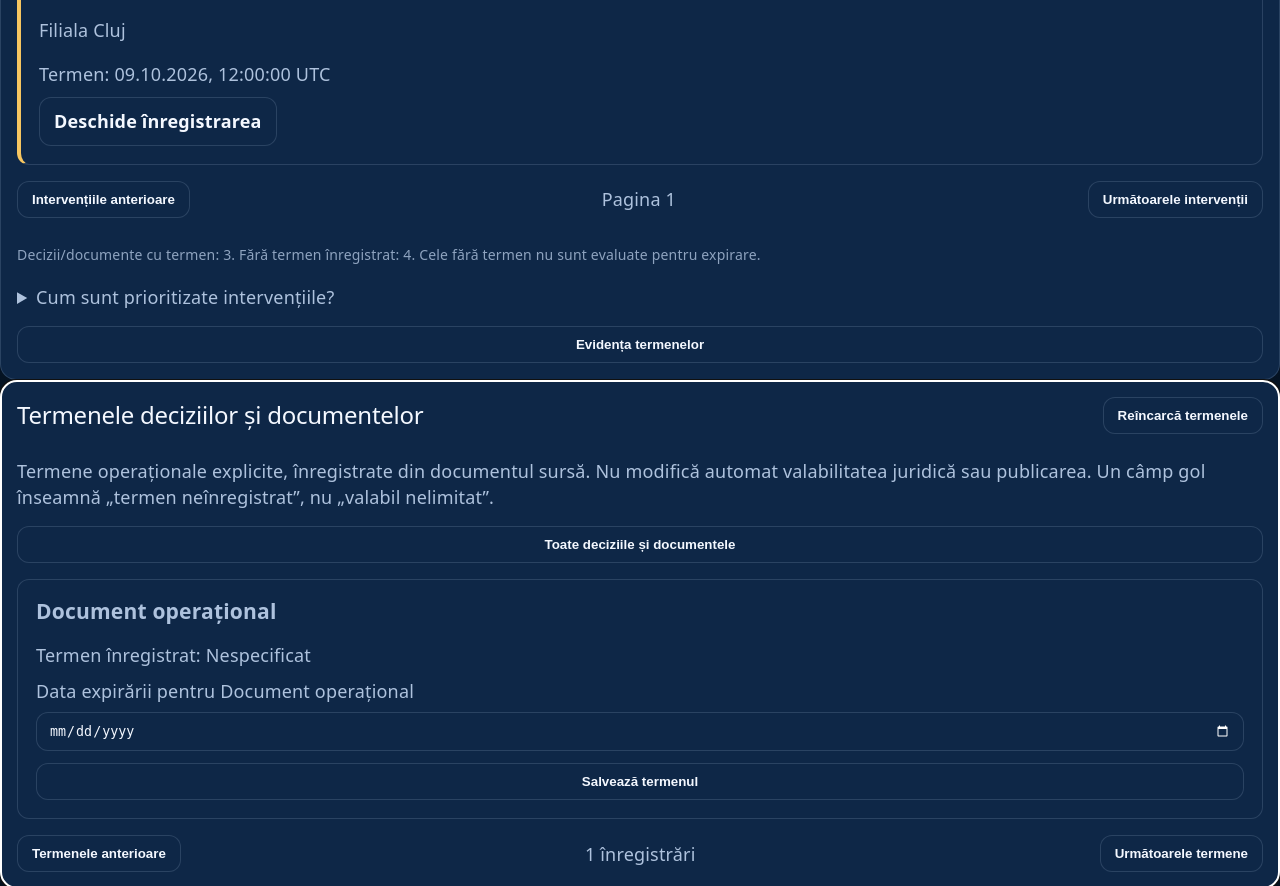
Test: presidential intervention list › keeps the date draft visible after a conflicting edit
(page scrolled)
Step 1. Type "2026-11-01" into the date field labelled "Data expirării pentru Document operațional" → x=640, y=732, box [36, 712, 1244, 752]
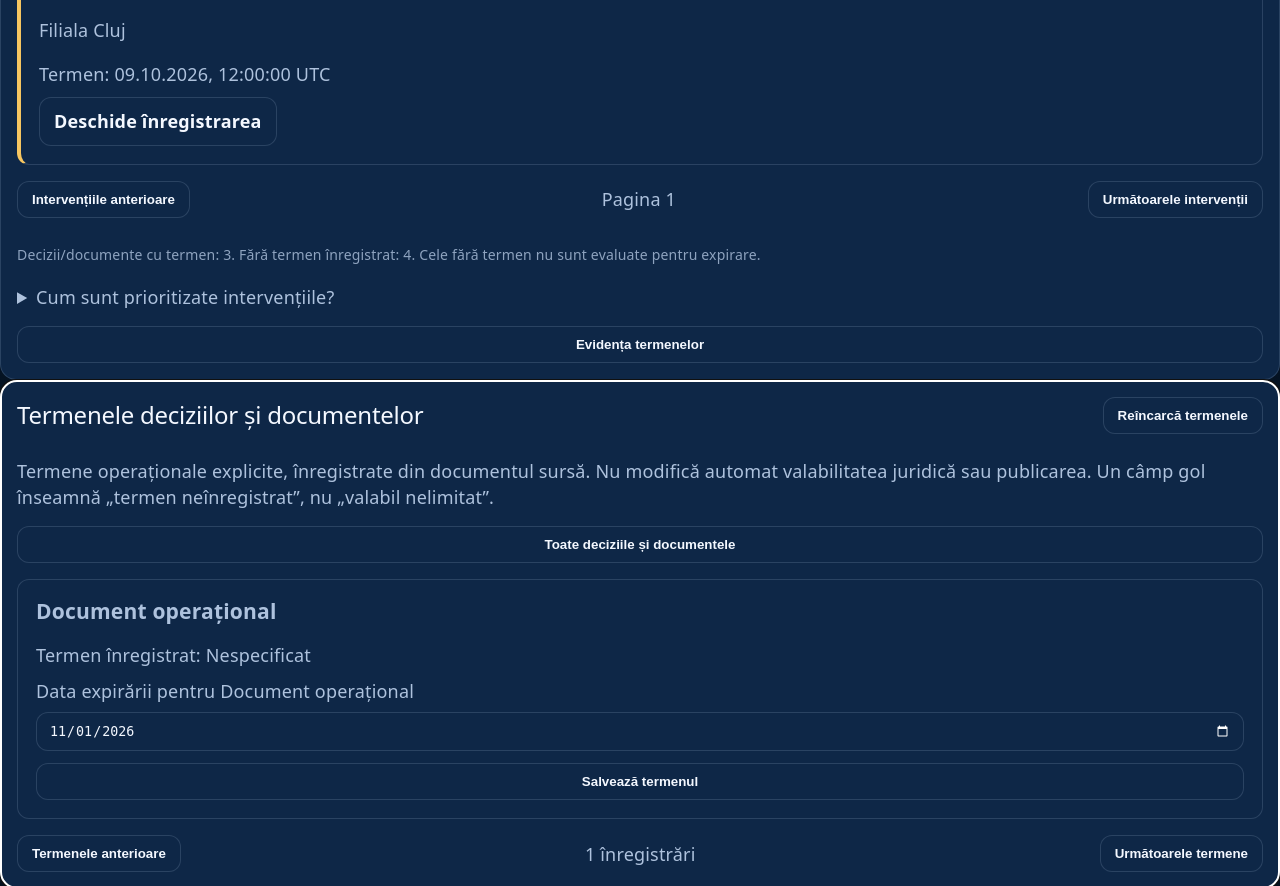
Step 2. Click the button "Salvează termenul" → x=640, y=782, box [36, 764, 1244, 800]
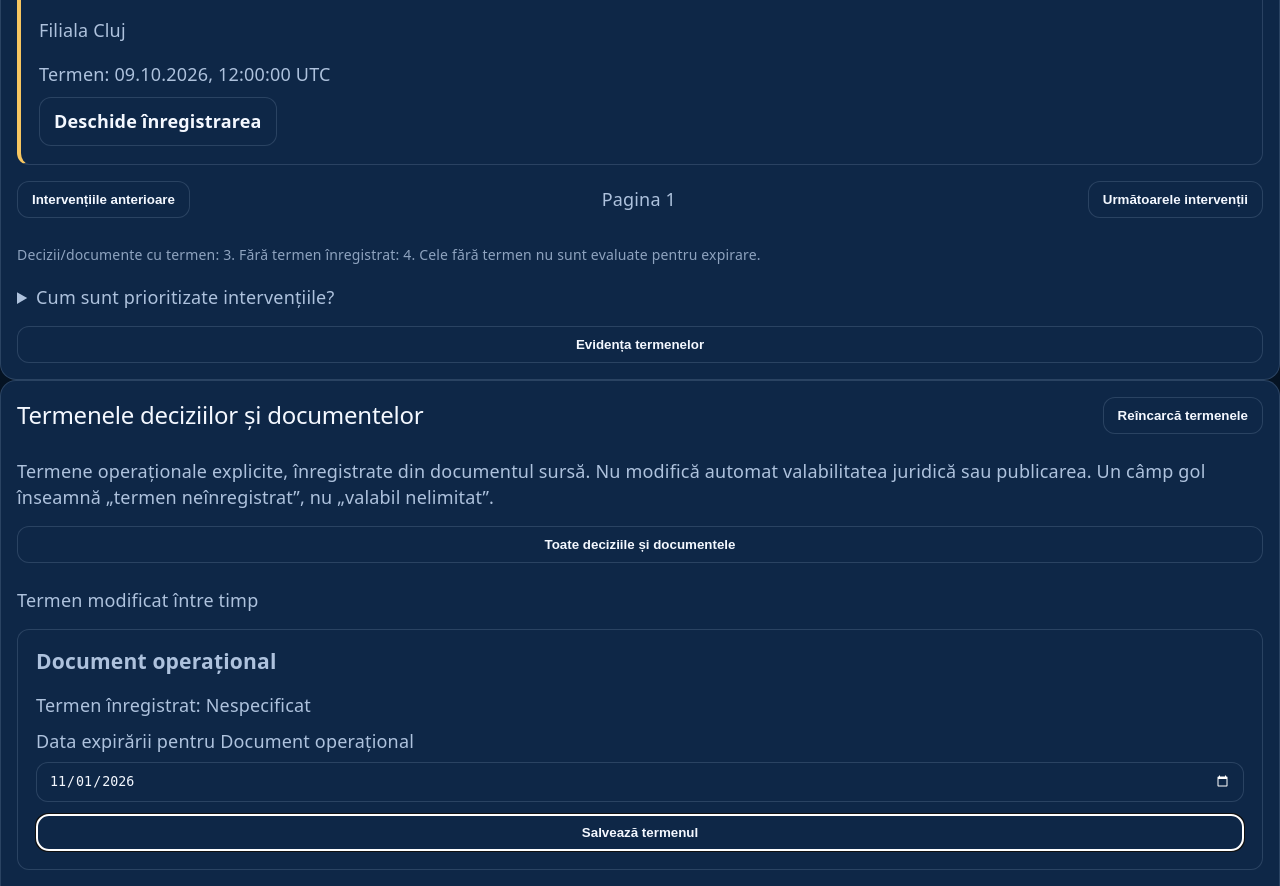
Now the message reads "Termen modificat între timp", box [17, 588, 258, 612]
